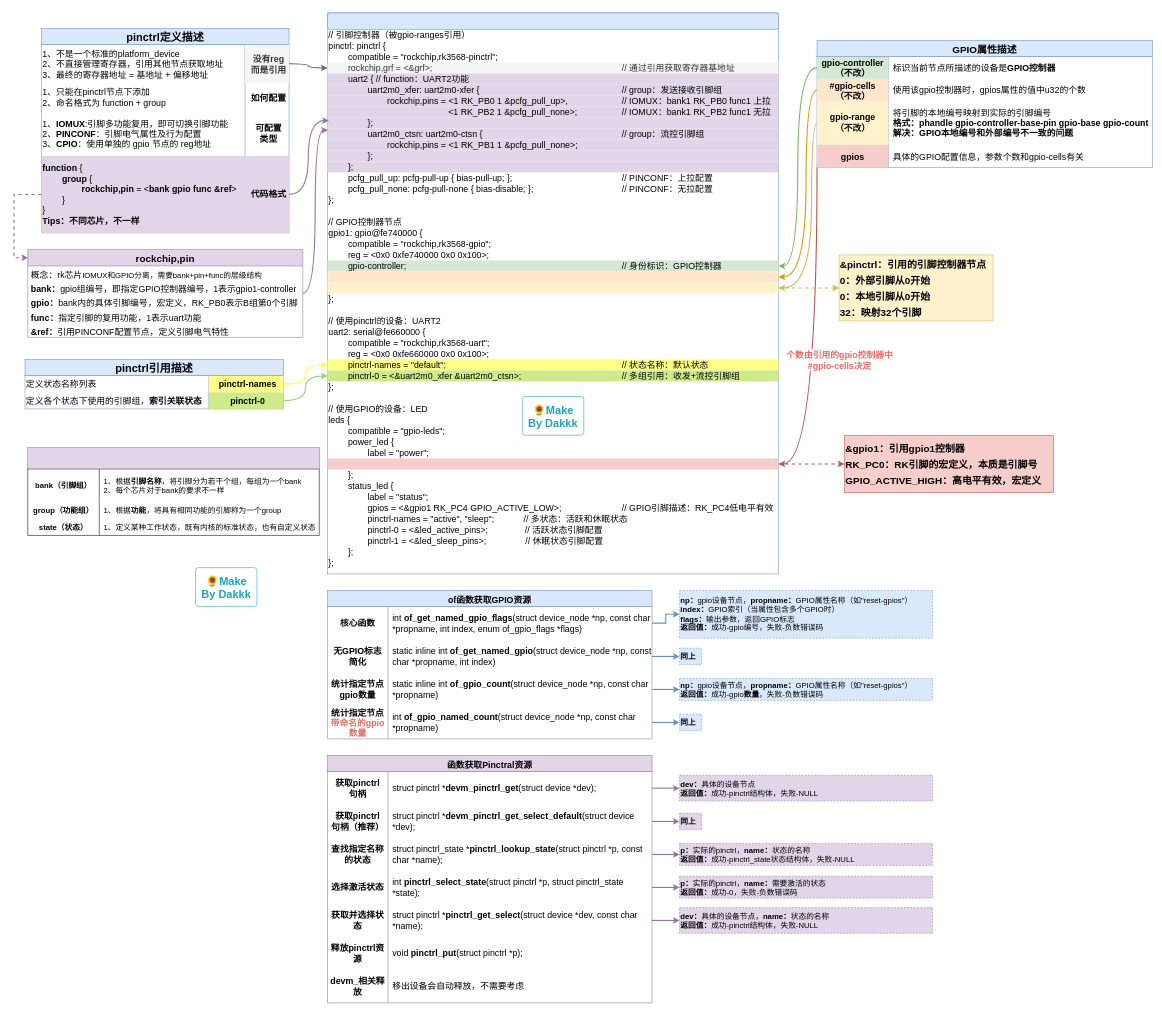
The diagram is 1162 pixels wide and 1013 high, and some of its shapes have lost their labels. The shapes that lost their labels are listed below. From the top down, each one's centre as x and y in pixels, then its label:
the point at 553,20: GPIO和pinctrl节点图示（掌握）
the point at 552,276: #gpio-cells = <2>; // 参数个数：每个GPIO用2个参数
the point at 552,287: gpio-ranges = <&pinctrl 0 0 32>; // 引脚映射：32个引脚映射到pinctrl
the point at 173,458: Pinctrl重要概念
the point at 552,463: gpios = <&gpio1 RK_PC0 GPIO_ACTIVE_HIGH>; // GPIO引脚描述：RK_PC0高电平有效
